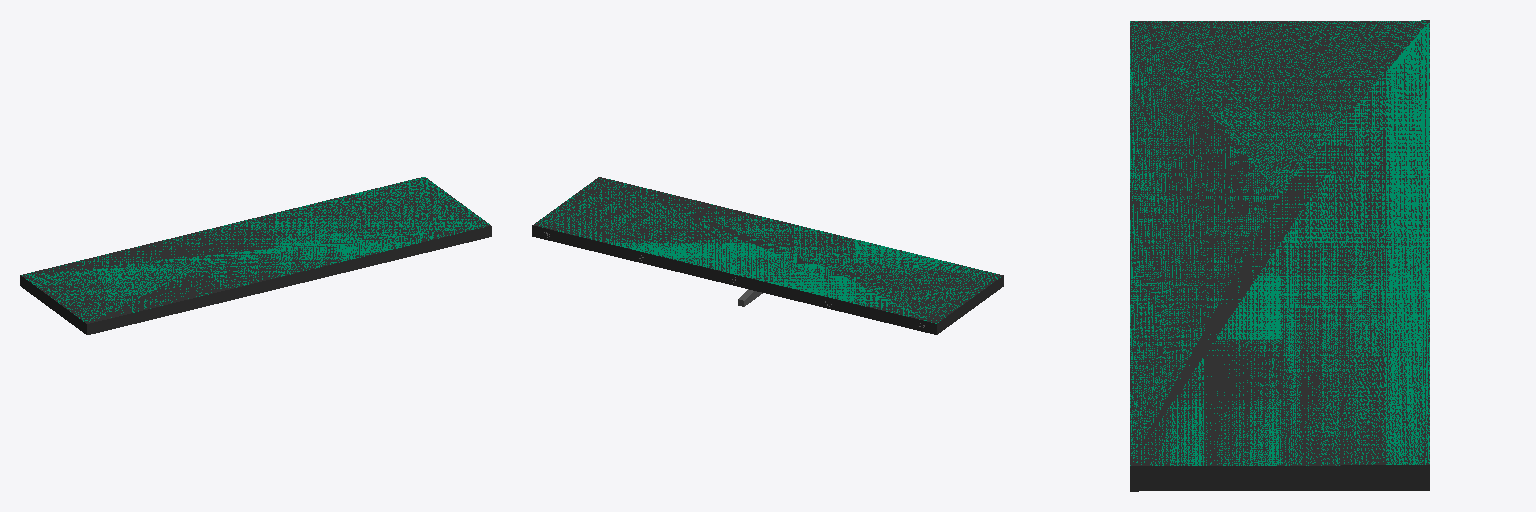
The robot description file, URDF, robot "right-pull-door":
<robot name="right-pull-door">
	<link name="base" />
	<link name="link_0">
		<visual name="out-frame">
			<origin xyz="0 0 0" />
			<geometry>
				<mesh filename="texture_dae/frame.dae" scale="0.6 0.6 0.6" />
			</geometry>
		</visual>
		<collision>
			<origin xyz="0 0 0" />
			<geometry>
				<mesh filename="texture_dae/frame.dae" scale="0.6 0.6 0.6" />
			</geometry>
		</collision>
	</link>
	<joint name="joint_0" type="fixed">
		<origin rpy="1.570796326794897 0 -1.570796326794897" xyz="0 0 0" />
		<child link="link_0" />
		<parent link="base" />
	</joint>
	<link name="link_1">
		<visual name="surf-board">
			<origin xyz="0.14249986292997802 0 0" />
			<geometry>
				<mesh filename="texture_dae/board.dae" scale="0.6 0.6 0.6" />
			</geometry>
		</visual>
		<collision>
			<origin xyz="0.14249986292997802 0 0" />
			<geometry>
				<mesh filename="texture_dae/board.dae" scale="0.6 0.6 0.6" />
			</geometry>
		</collision>
	</link>
	<joint name="joint_1" type="revolute">
		<origin xyz="-0.14249986292997802 0 0" />
		<axis xyz="0 -1 0" />
		<child link="link_1" />
		<parent link="link_0" />
		<limit lower="0" upper="1.5079644737231006" />
	</joint>
	<link name="link_2">
		<visual name="handle">
			<origin xyz="0 0 0" />
			<geometry>
				<mesh filename="texture_dae/9961218.dae" scale="0.3 0.3 0.3" />
			</geometry>
		</visual>
		<collision>
			<origin xyz="0 0 0" />
			<geometry>
				<mesh filename="texture_dae/9961218.dae" scale="0.3 0.3 0.3" />
			</geometry>
		</collision>
	</link>
	<joint name="joint_2" type="revolute">
		<origin xyz="0.14249986292997802 0 0.010468612441443645" />
		<child link="link_2" />
		<parent link="link_1" />
		<axis xyz="0 0 1" />
		<limit lower="0" upper="0" />
	</joint>
</robot>

--- What the picture shows (computed from the rendered views, not written in the file) ---
3 views of the same robot in one strip: view 1: azimuth 30°, elevation 25°; view 2: azimuth 150°, elevation 25°; view 3: azimuth 270°, elevation 25° (orthographic).
Model right-pull-door with 4 links and 3 joints (2 revolute, 1 fixed), rooted at base, posed all joints at 0.
Links seen in each view (by area): view 1: link_1; view 2: link_1; view 3: link_1.
Link boxes in pixels (bbox=[...]): link_1: bbox=[20, 177, 491, 334]; link_1: bbox=[532, 177, 1003, 334]; link_1: bbox=[1130, 20, 1429, 491].
Bounding box of the posed robot: 0.998 × 0.2852 × 0.0865 m (x, y, z).
2 mesh visuals loaded from 3 distinct referenced files (2 Collada DAE); not drawn: 1 (reference not matched to a file when rendering).
